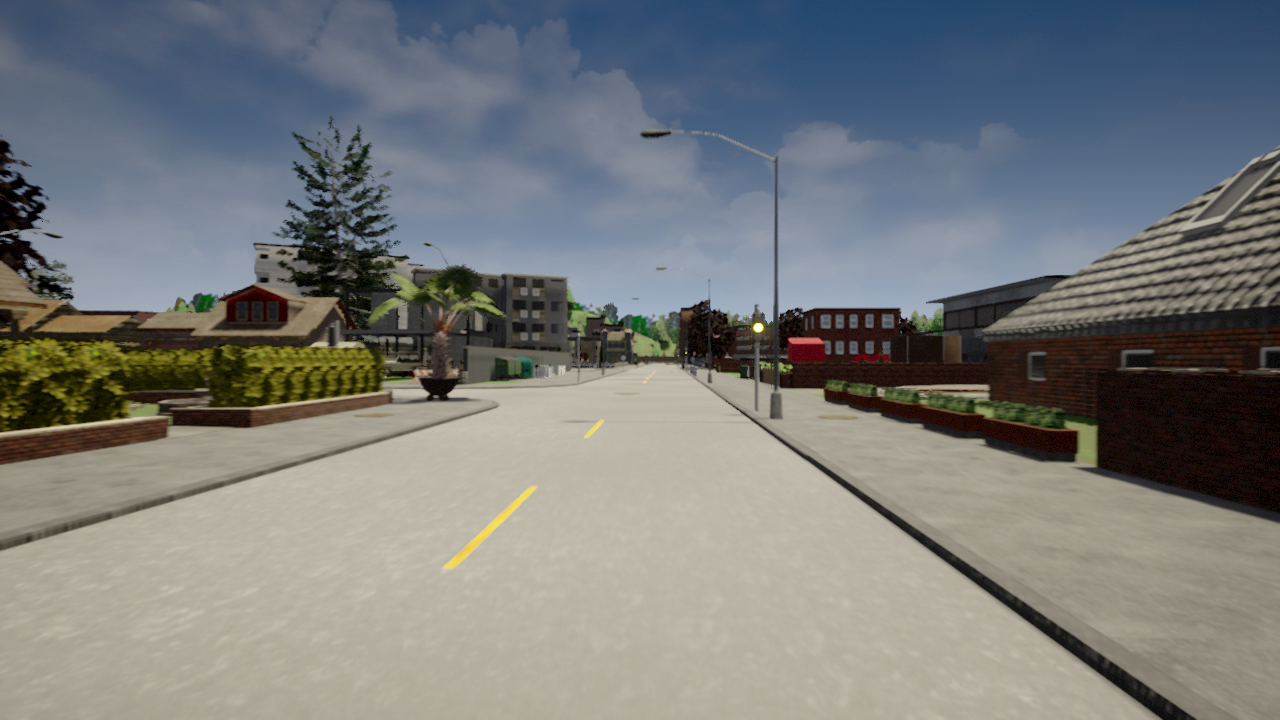yellow: (750, 312, 766, 342)
